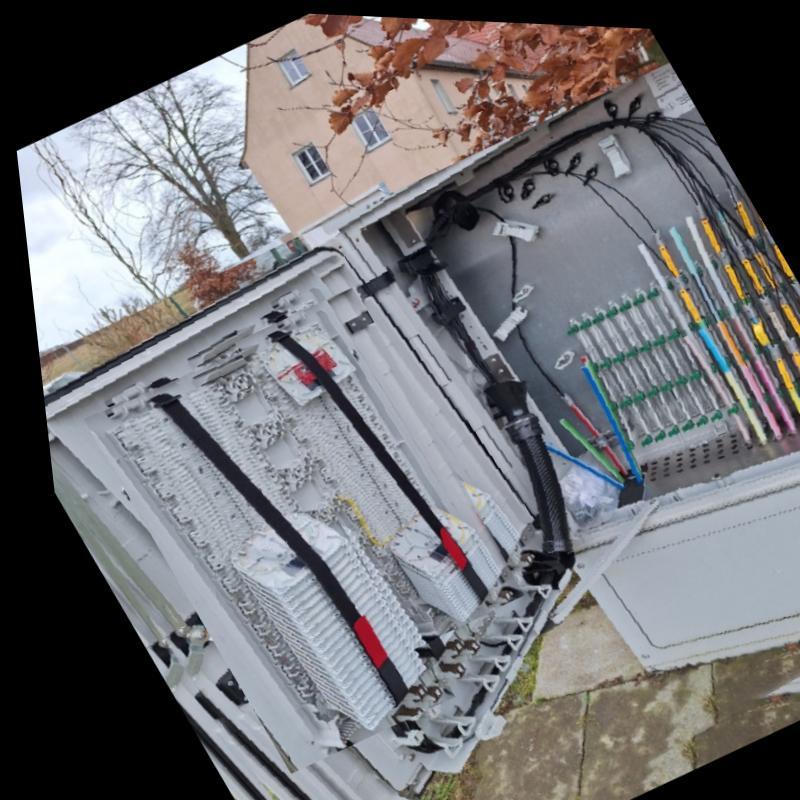NT-Gehause: (35, 56, 800, 800)
Spleiskassetten: (74, 355, 434, 749), (229, 297, 503, 625)
